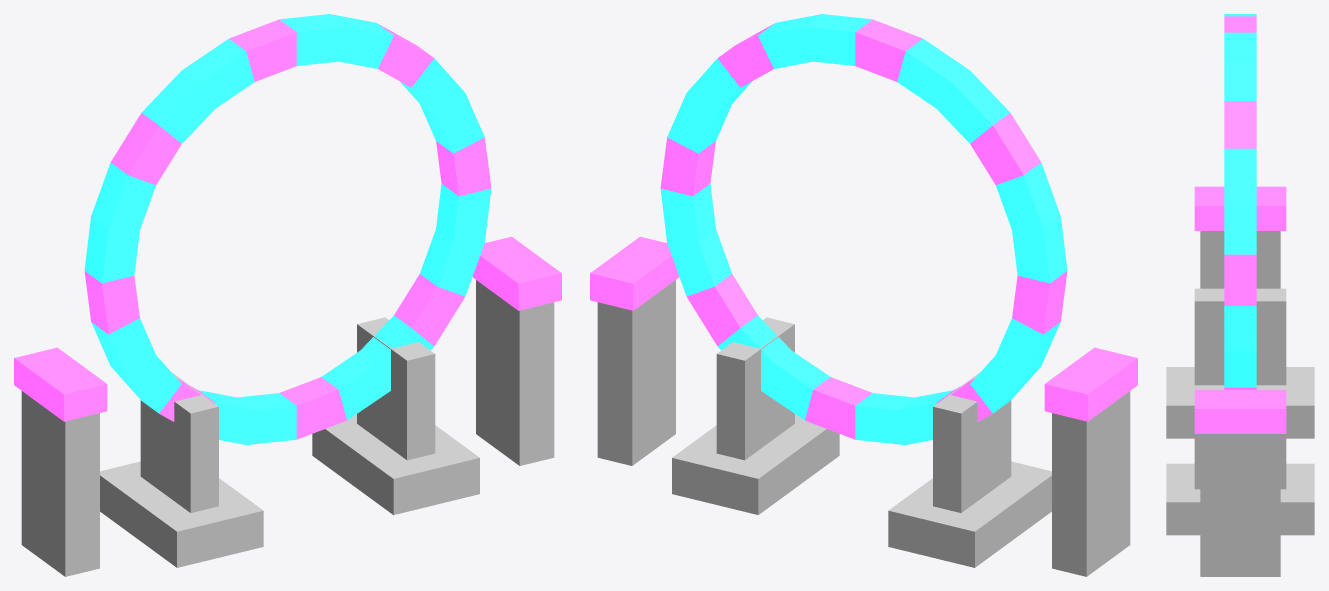
3 renders of one model, left to right at view 1: azimuth 30°, elevation 25°; view 2: azimuth 150°, elevation 25°; view 3: azimuth 270°, elevation 25°, orthographic. The views are drawn at different scales.
Visible parts, largest first — view 1: Neon_HoloRing_Showcase; view 2: Neon_HoloRing_Showcase; view 3: Neon_HoloRing_Showcase.
Boxes of the visible parts, left/top/right/bottom form: Neon_HoloRing_Showcase: left=14, top=14, right=561, bottom=576; Neon_HoloRing_Showcase: left=590, top=14, right=1137, bottom=576; Neon_HoloRing_Showcase: left=1166, top=14, right=1314, bottom=576.
Bounding box in the file's own units: 2.3 × 2.1 × 0.65.
